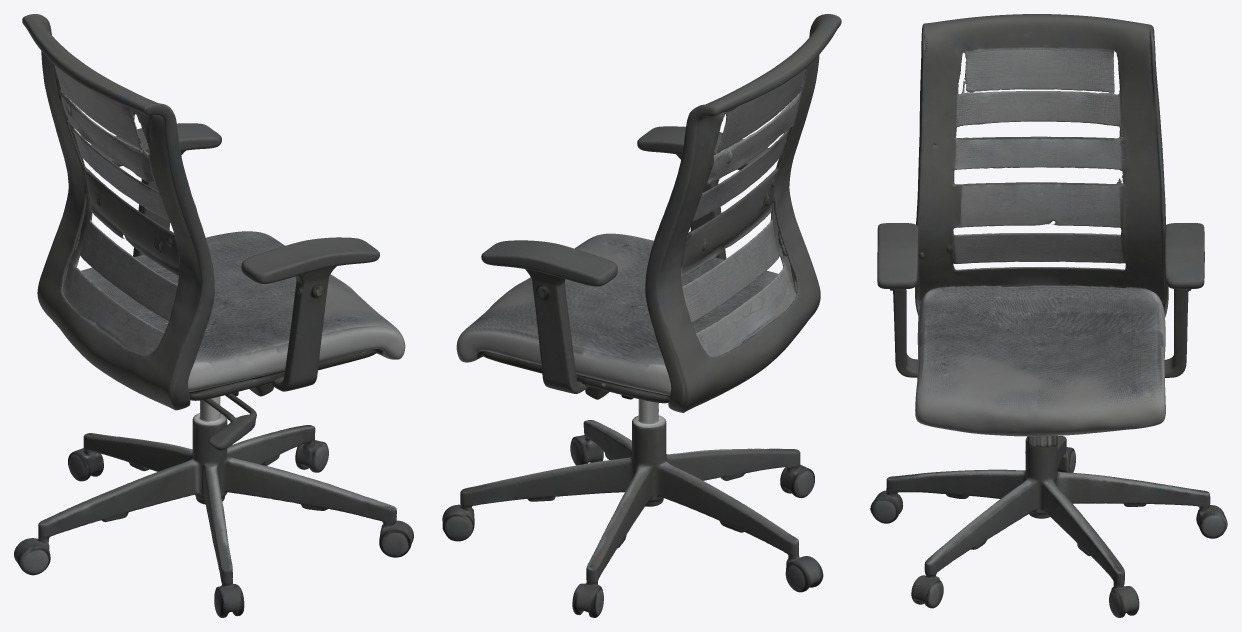
File: modern_office_chair_padded_10.glb
The picture shows the model from 3 angles, left to right: view 1: azimuth 30°, elevation 25°; view 2: azimuth 150°, elevation 25°; view 3: azimuth 270°, elevation 25°; orthographic projection. The views are drawn at different scales.
Parts seen in each view (by area): view 1: tripo_node_4a5880d7-a08d-4634-b997-50858682e414; view 2: tripo_node_4a5880d7-a08d-4634-b997-50858682e414; view 3: tripo_node_4a5880d7-a08d-4634-b997-50858682e414.
Boxes of the visible parts, left/top/right/bottom form: tripo_node_4a5880d7-a08d-4634-b997-50858682e414: left=14, top=14, right=413, bottom=617; tripo_node_4a5880d7-a08d-4634-b997-50858682e414: left=442, top=14, right=841, bottom=617; tripo_node_4a5880d7-a08d-4634-b997-50858682e414: left=870, top=14, right=1227, bottom=617.
Bounding box in the file's own units: 0.7043 × 1 × 0.6857.
1 material, 1 textured.
